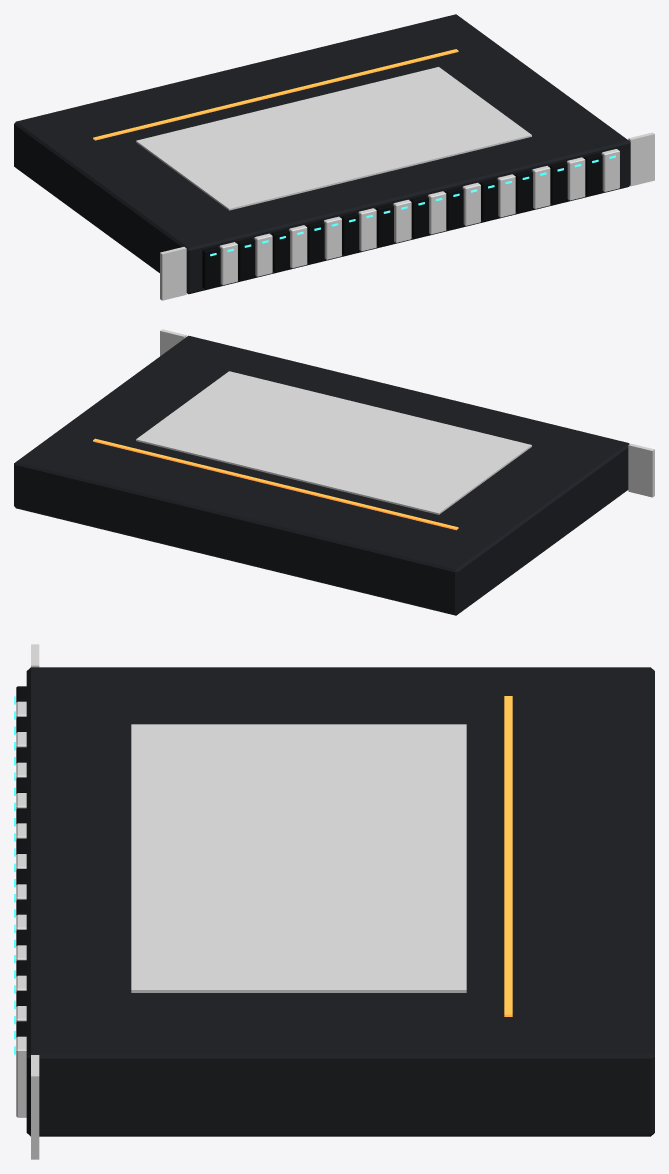
File: hw_sto_allflash_128tb.glb
3 views of the same model, one above another, from view 1: azimuth 30°, elevation 25°; view 2: azimuth 150°, elevation 25°; view 3: azimuth 270°, elevation 25° (orthographic). The views are drawn at different scales.
Visible parts, largest first — view 1: Body; view 2: Body; view 3: Body.
Boxes of the visible parts, box(x1,y1,x2,y2) form: Body: box(14, 14, 654, 300); Body: box(14, 329, 654, 615); Body: box(14, 644, 654, 1159).
Size of the model in its own units: 0.488 by 0.0466 by 0.3061.
